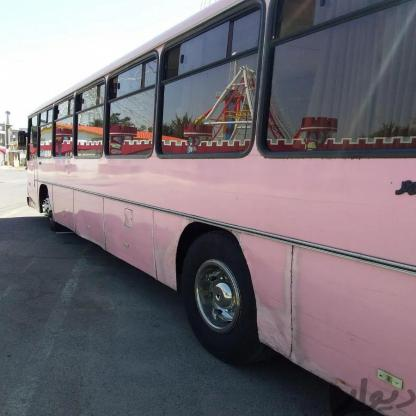Bus: (20, 0, 416, 416)
